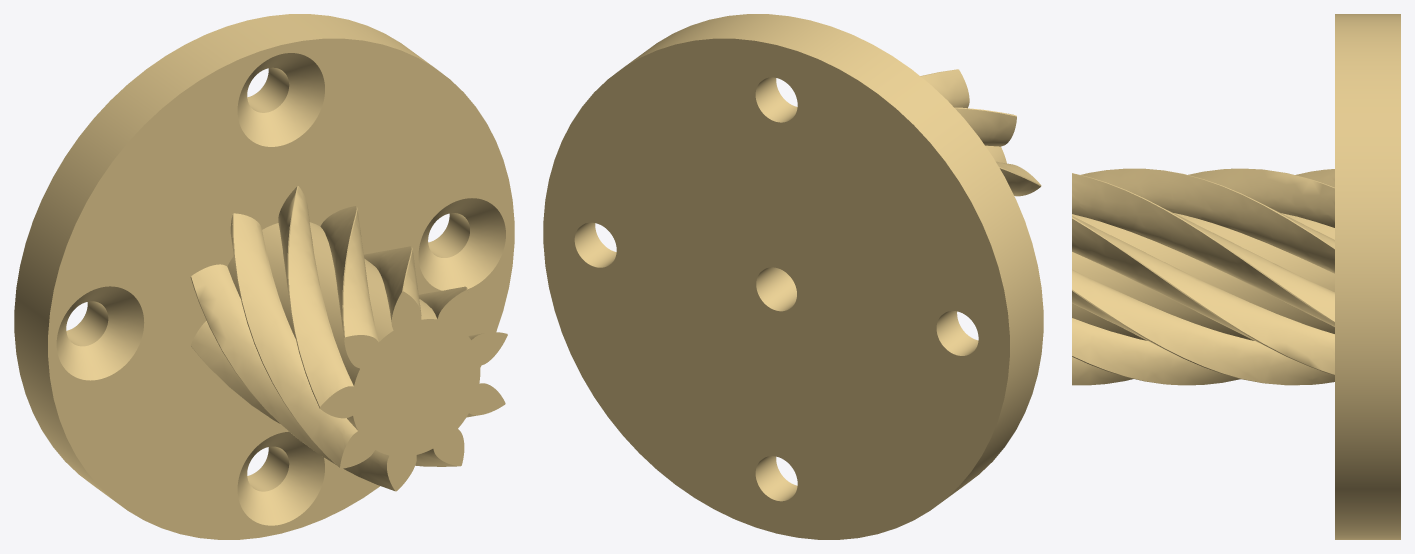
Rendered from sun_LOD0.fbx.
3 views of the same model, side by side, from view 1: azimuth 30°, elevation 25°; view 2: azimuth 150°, elevation 25°; view 3: azimuth 270°, elevation 25° (orthographic). The views are drawn at different scales.
Parts seen in each view (by area): view 1: MM_opentorque_sun_gear_cd4a1bc63b; view 2: MM_opentorque_sun_gear_cd4a1bc63b; view 3: MM_opentorque_sun_gear_cd4a1bc63b.
Boxes of the visible parts, <box> form: MM_opentorque_sun_gear_cd4a1bc63b: <box>14,14,514,539</box>; MM_opentorque_sun_gear_cd4a1bc63b: <box>543,14,1043,539</box>; MM_opentorque_sun_gear_cd4a1bc63b: <box>1072,14,1400,539</box>.
Size of the model in its own units: 0.04 by 0.04 by 0.025.
